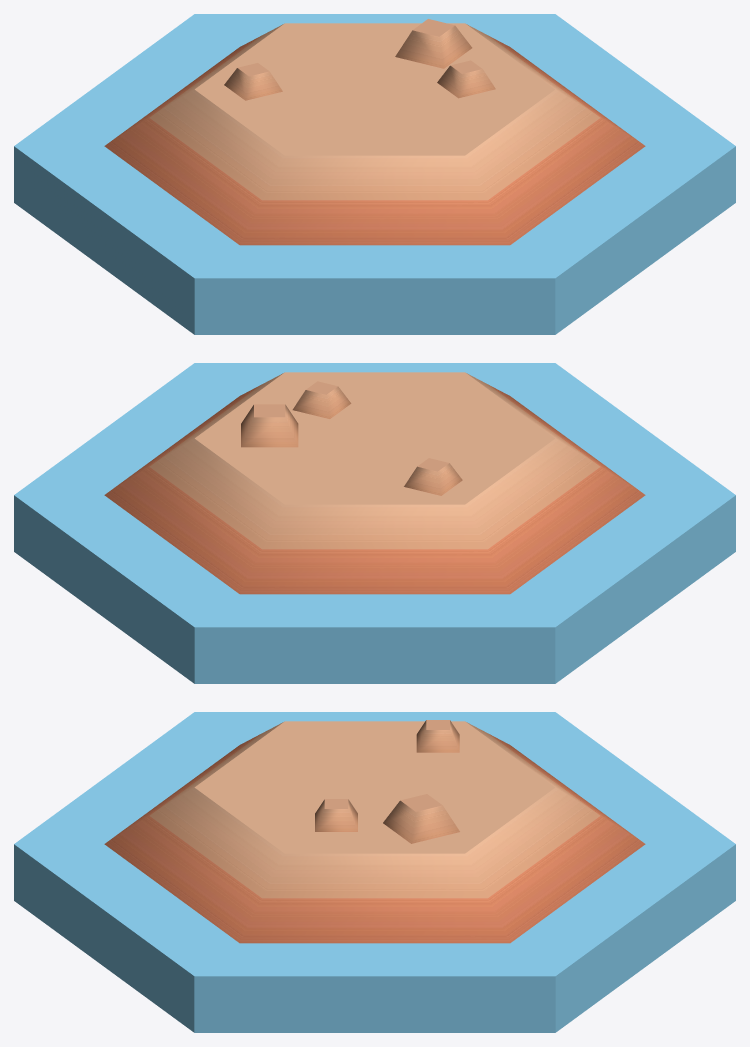
File: water-island.glb
The picture shows the model from 3 angles, top to bottom: view 1: azimuth 30°, elevation 25°; view 2: azimuth 150°, elevation 25°; view 3: azimuth 270°, elevation 25°; orthographic projection.
Parts seen in each view (by area): view 1: water-island; view 2: water-island; view 3: water-island.
Part boxes in pixels (x1,y1,x2,y2): water-island: (14, 14, 735, 334); water-island: (14, 363, 735, 683); water-island: (14, 712, 735, 1032).
Bounding box in the file's own units: 1 × 0.2434 × 1.15.
1 material, 1 textured.
